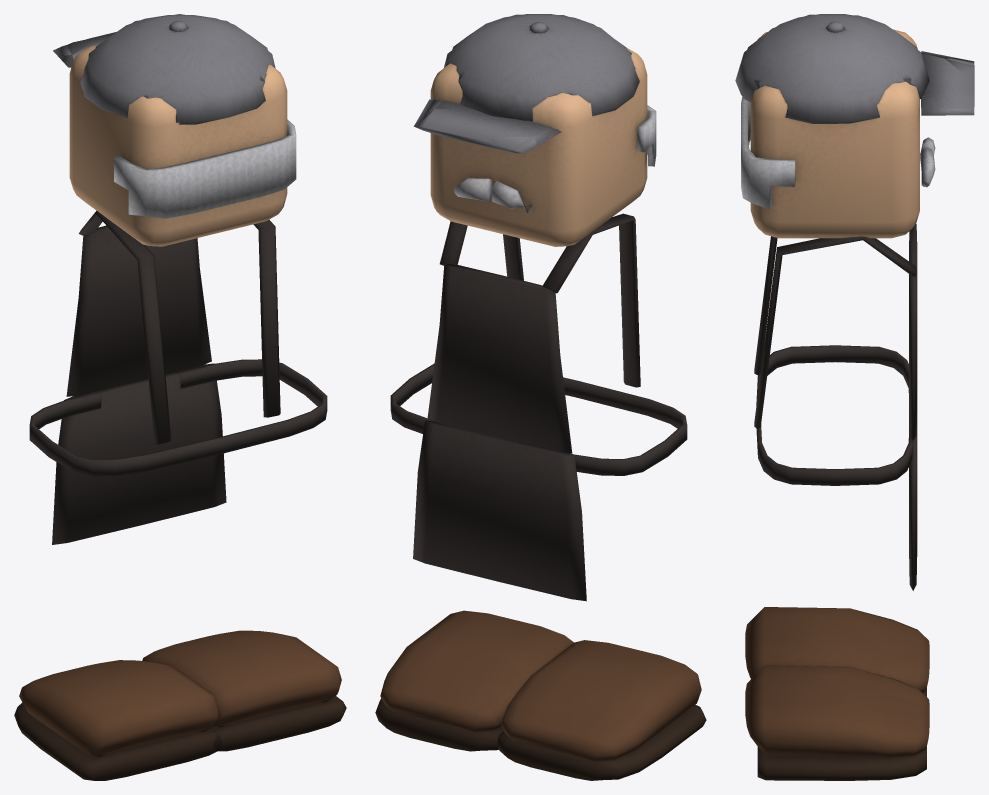
Rendered from Bloque_Oficio_Ramon.fbx.
3 views of the same model, side by side, from view 1: azimuth 30°, elevation 25°; view 2: azimuth 150°, elevation 25°; view 3: azimuth 270°, elevation 25° (orthographic).
Parts seen in each view (by area): view 1: Delantal, DelantalPeto, ZapatoL, CabezaBloque, ZapatoR, Gorra, Pelo, GorraLOD; view 2: Delantal, DelantalPeto, CabezaBloque, ZapatoL, ZapatoR, Gorra, GorraLOD, Bigote, Pelo; view 3: CabezaBloque, ZapatoR, Gorra, ZapatoL, Delantal, GorraLOD, DelantalPeto, Pelo, Bigote.
Boxes of the visible parts, x1=… form: Delantal: x1=29, y1=359, x2=327, y2=544; DelantalPeto: x1=66, y1=210, x2=280, y2=444; ZapatoL: x1=14, y1=660, x2=222, y2=780; CabezaBloque: x1=69, y1=44, x2=287, y2=246; ZapatoR: x1=142, y1=630, x2=346, y2=751; Gorra: x1=53, y1=15, x2=274, y2=122; Pelo: x1=114, y1=119, x2=296, y2=218; GorraLOD: x1=53, y1=14, x2=275, y2=124; Delantal: x1=390, y1=363, x2=687, y2=601; DelantalPeto: x1=427, y1=213, x2=640, y2=453; CabezaBloque: x1=430, y1=47, x2=647, y2=246; ZapatoL: x1=497, y1=640, x2=706, y2=780; ZapatoR: x1=375, y1=610, x2=573, y2=751; Gorra: x1=414, y1=14, x2=639, y2=153; GorraLOD: x1=414, y1=14, x2=633, y2=153; Bigote: x1=454, y1=178, x2=532, y2=213; Pelo: x1=637, y1=105, x2=656, y2=166; CabezaBloque: x1=750, y1=29, x2=919, y2=238; ZapatoR: x1=745, y1=665, x2=929, y2=780; Gorra: x1=735, y1=14, x2=974, y2=122; ZapatoL: x1=745, y1=607, x2=929, y2=696; Delantal: x1=756, y1=345, x2=917, y2=590; GorraLOD: x1=736, y1=14, x2=974, y2=123; DelantalPeto: x1=754, y1=224, x2=917, y2=440; Pelo: x1=741, y1=96, x2=795, y2=209; Bigote: x1=920, y1=137, x2=935, y2=187.
Size of the model in its own units: 222 by 555 by 172.
